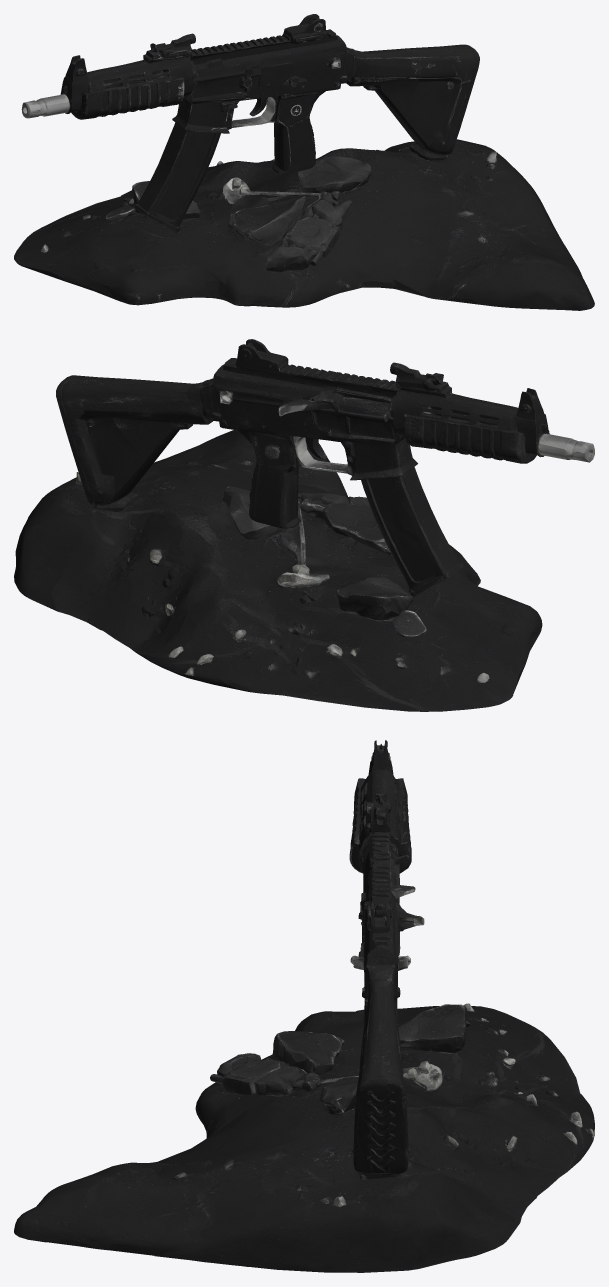
3 renders of one model, top to bottom at view 1: azimuth 30°, elevation 25°; view 2: azimuth 150°, elevation 25°; view 3: azimuth 270°, elevation 25°, orthographic. The views are drawn at different scales.
Bounding box in the file's own units: 1.9 × 0.8658 × 1.64.
1 material, 1 textured.
